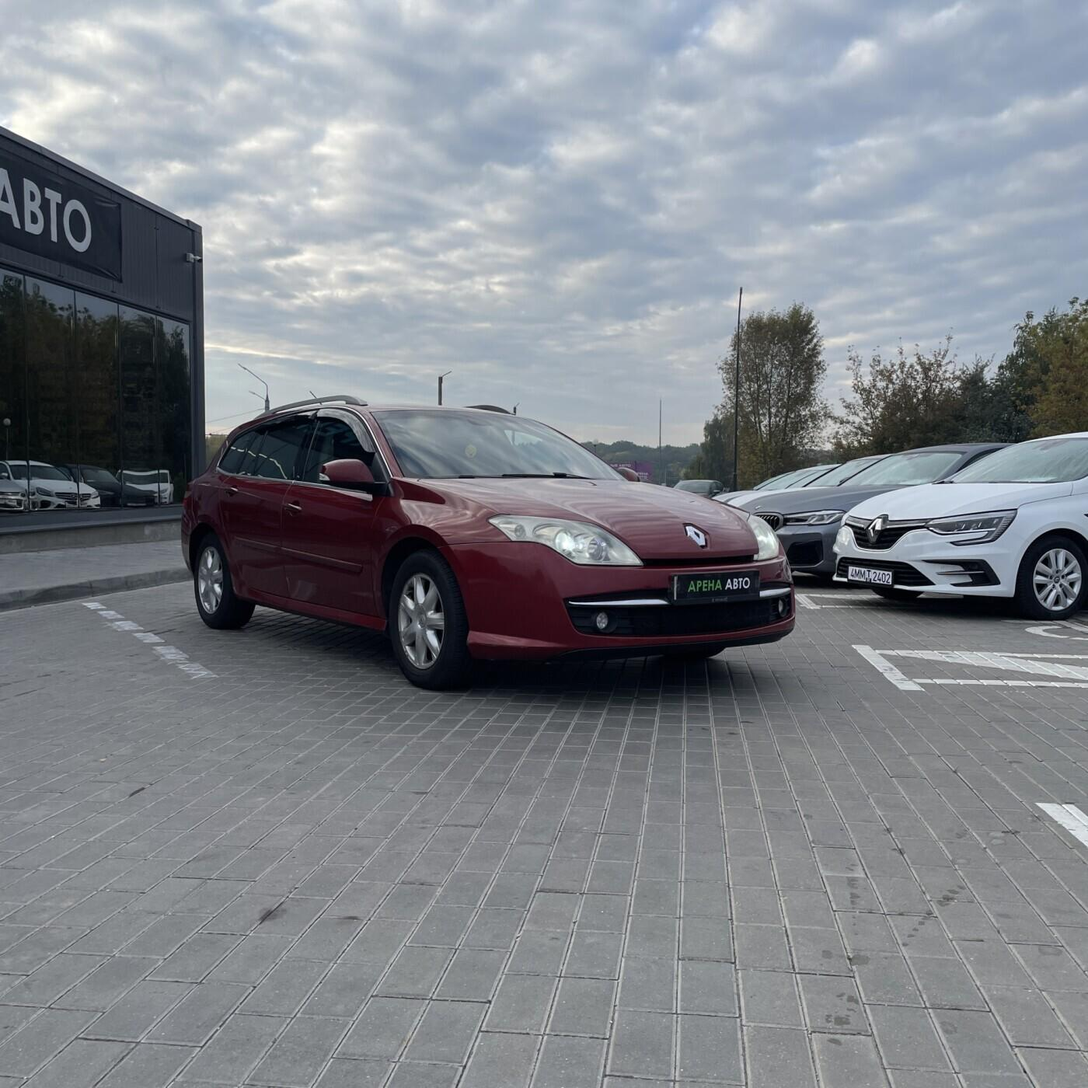Laguna_2007-2011: (181, 398, 794, 689)
